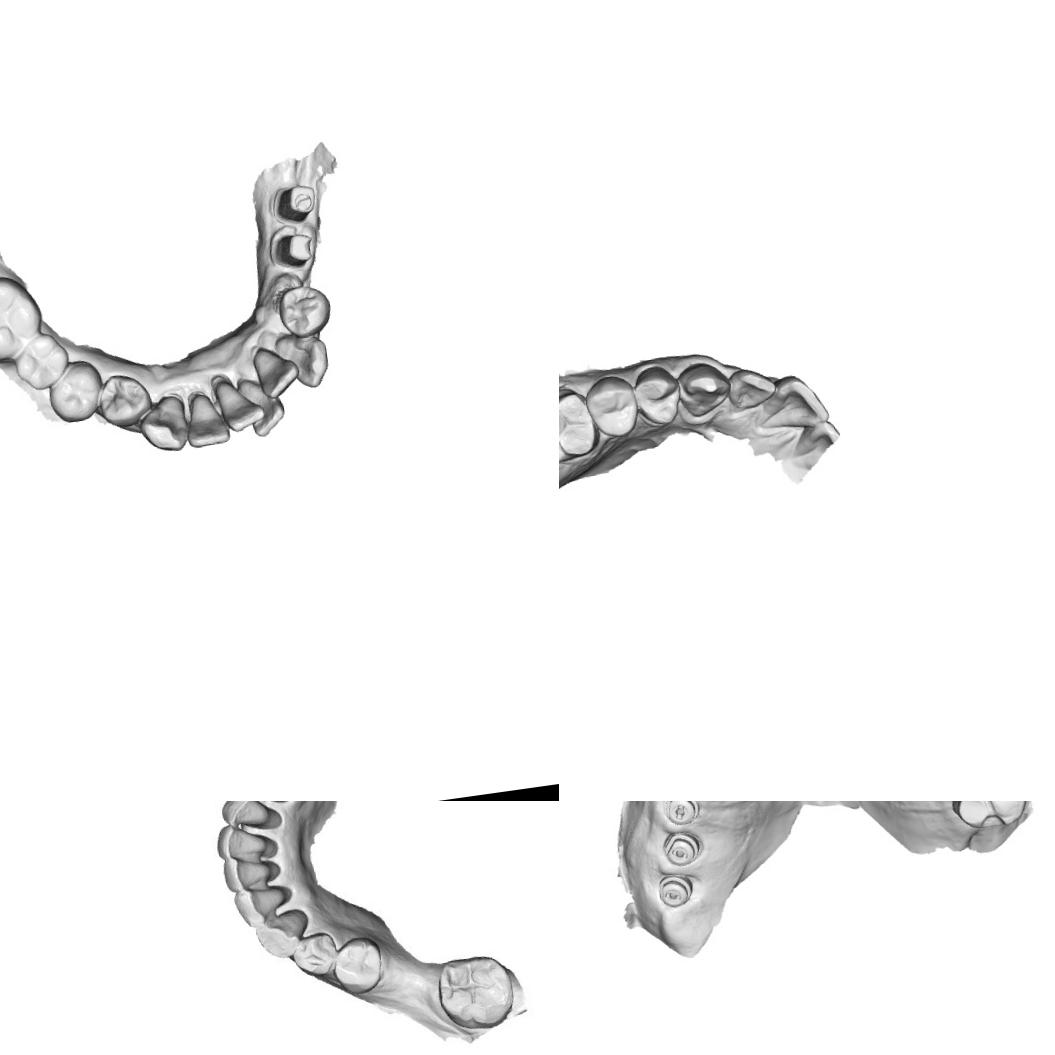abutment: (271, 176, 320, 232), (272, 227, 321, 270)
canine: (134, 391, 196, 456), (272, 328, 334, 393), (673, 358, 735, 420), (252, 906, 315, 961)
implant_minus: (660, 827, 702, 869), (655, 870, 695, 911), (660, 801, 702, 827)
incisor: (752, 369, 832, 435), (212, 370, 266, 438), (238, 370, 288, 440), (248, 340, 302, 401), (182, 388, 232, 450), (212, 818, 273, 868), (233, 878, 292, 929), (220, 852, 280, 900), (723, 362, 778, 413), (216, 801, 275, 835)
molar: (432, 947, 520, 1037), (0, 269, 50, 371), (9, 329, 74, 394), (559, 384, 603, 467), (948, 801, 1030, 832)
premolar: (44, 357, 109, 425), (581, 371, 642, 442), (326, 932, 386, 999), (276, 278, 338, 340), (630, 362, 686, 430), (95, 370, 156, 430), (288, 928, 341, 980)
